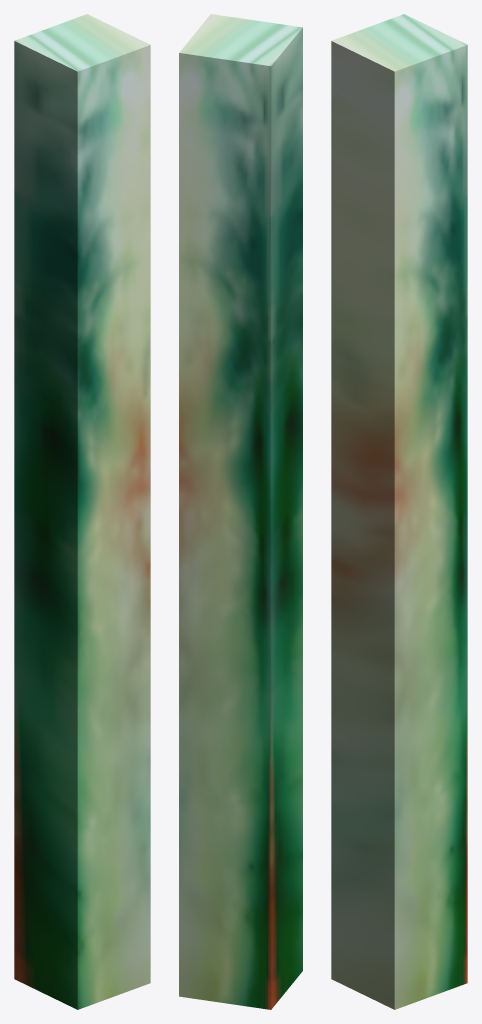
Rendered from Ridge_Block_2.gltf.
3 renders of one model, left to right at view 1: azimuth 90°, elevation 25°; view 2: azimuth 210°, elevation 25°; view 3: azimuth 270°, elevation 25°, orthographic.
Visible parts, largest first — view 1: Ridge_Block_2; view 2: Ridge_Block_2; view 3: Ridge_Block_2.
Boxes of the visible parts, x1,y1,x2,y2 form: Ridge_Block_2: [14, 14, 150, 1009]; Ridge_Block_2: [179, 14, 302, 1009]; Ridge_Block_2: [331, 14, 467, 1009].
Size of the model in its own units: 4.13 by 31.35 by 4.13.
1 material, 1 textured.
